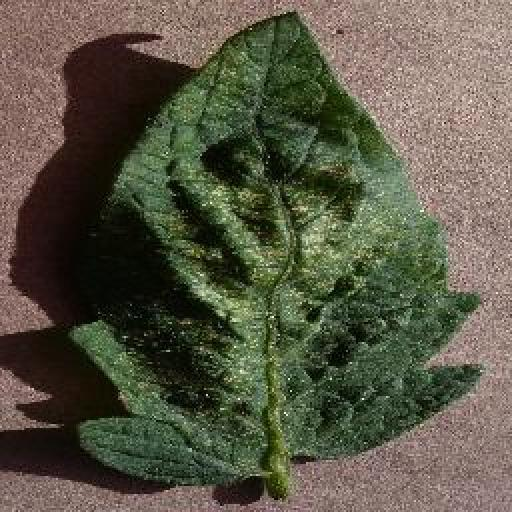disease_tomato: (72, 8, 484, 486)
